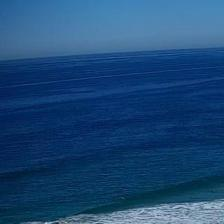surfer: (189, 197, 196, 199), (212, 190, 218, 192), (28, 210, 31, 212), (99, 200, 102, 202), (117, 200, 119, 202), (123, 196, 125, 198)
